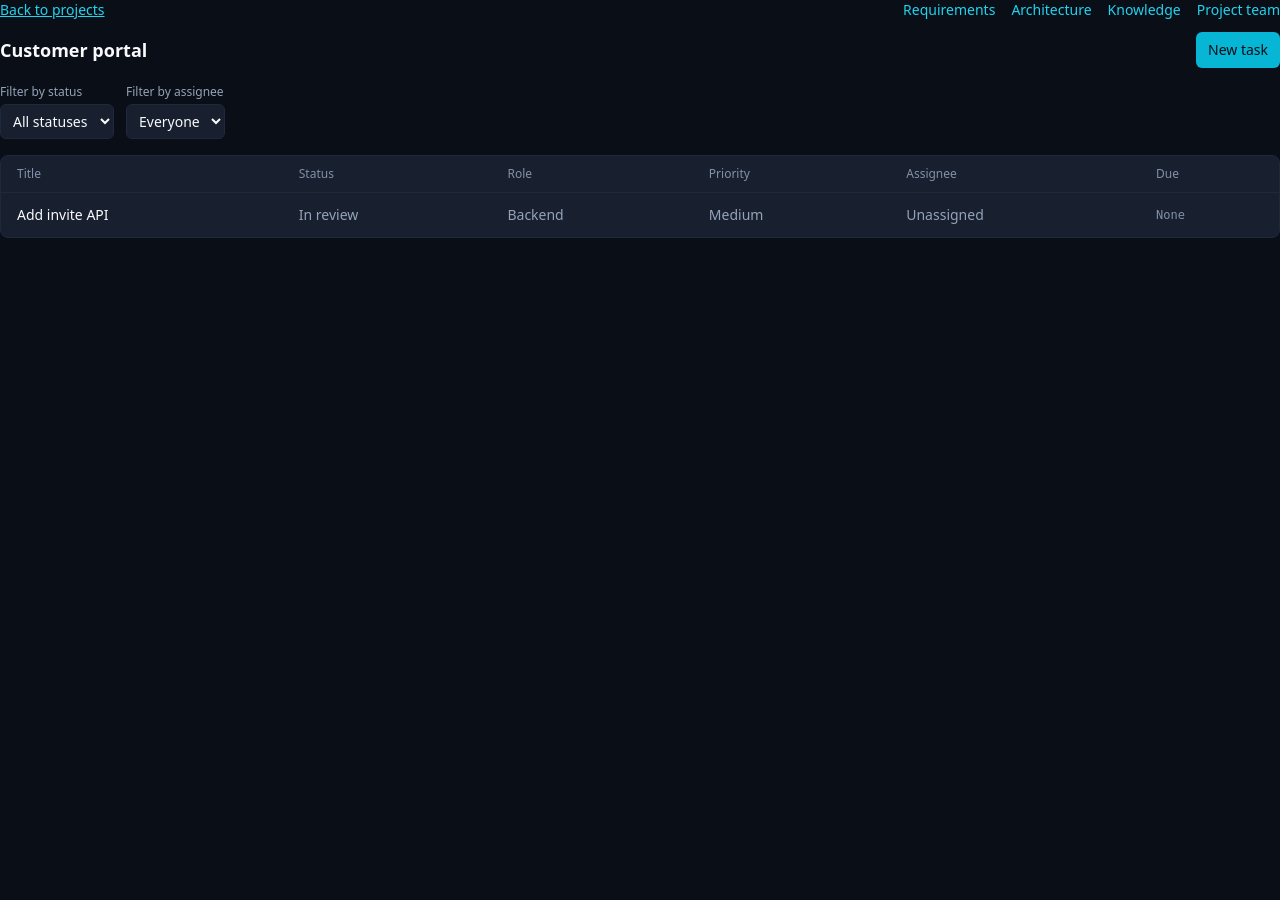
Scenario: task review flow › shows approve and reject only for a task in my queue
Click the button "Add invite API". click: (63, 215)
box: [17, 205, 108, 225]
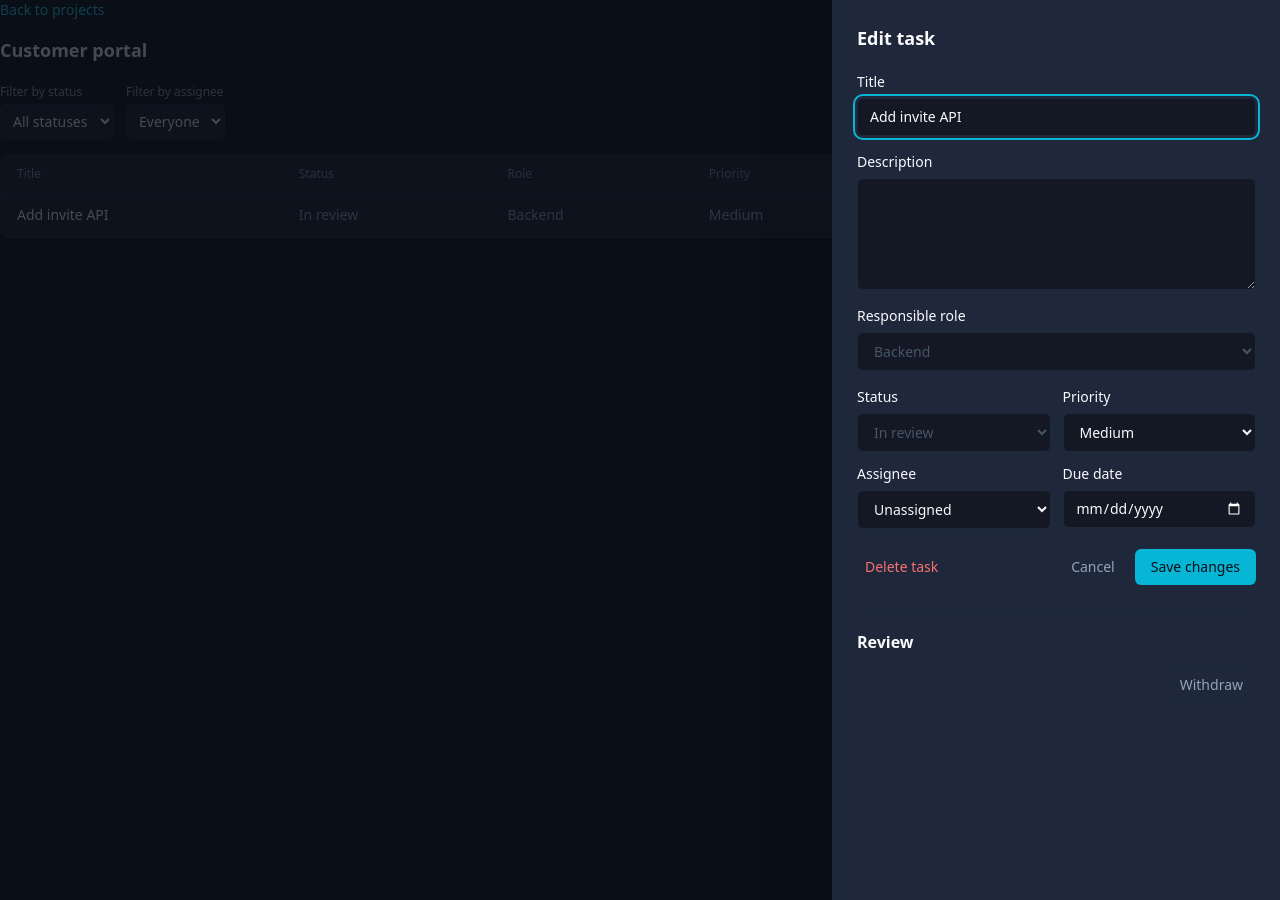
Expected: the button "Withdraw" is shown, [1167, 666, 1256, 704]
